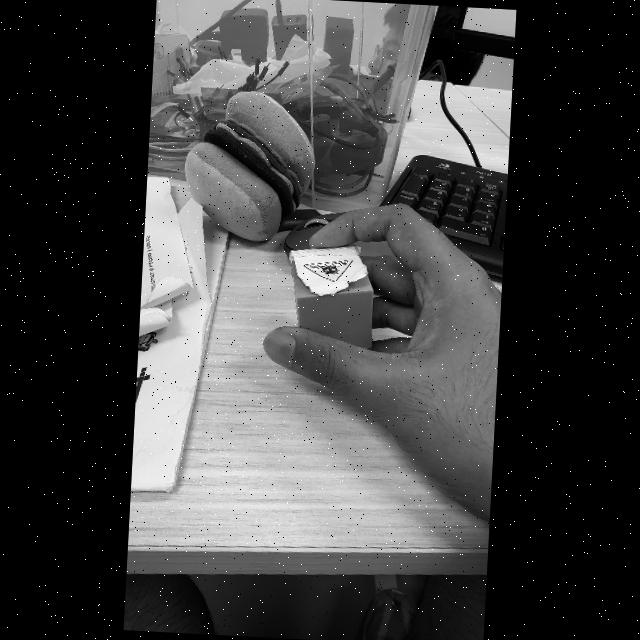Tsunami: (304, 260, 352, 281)
